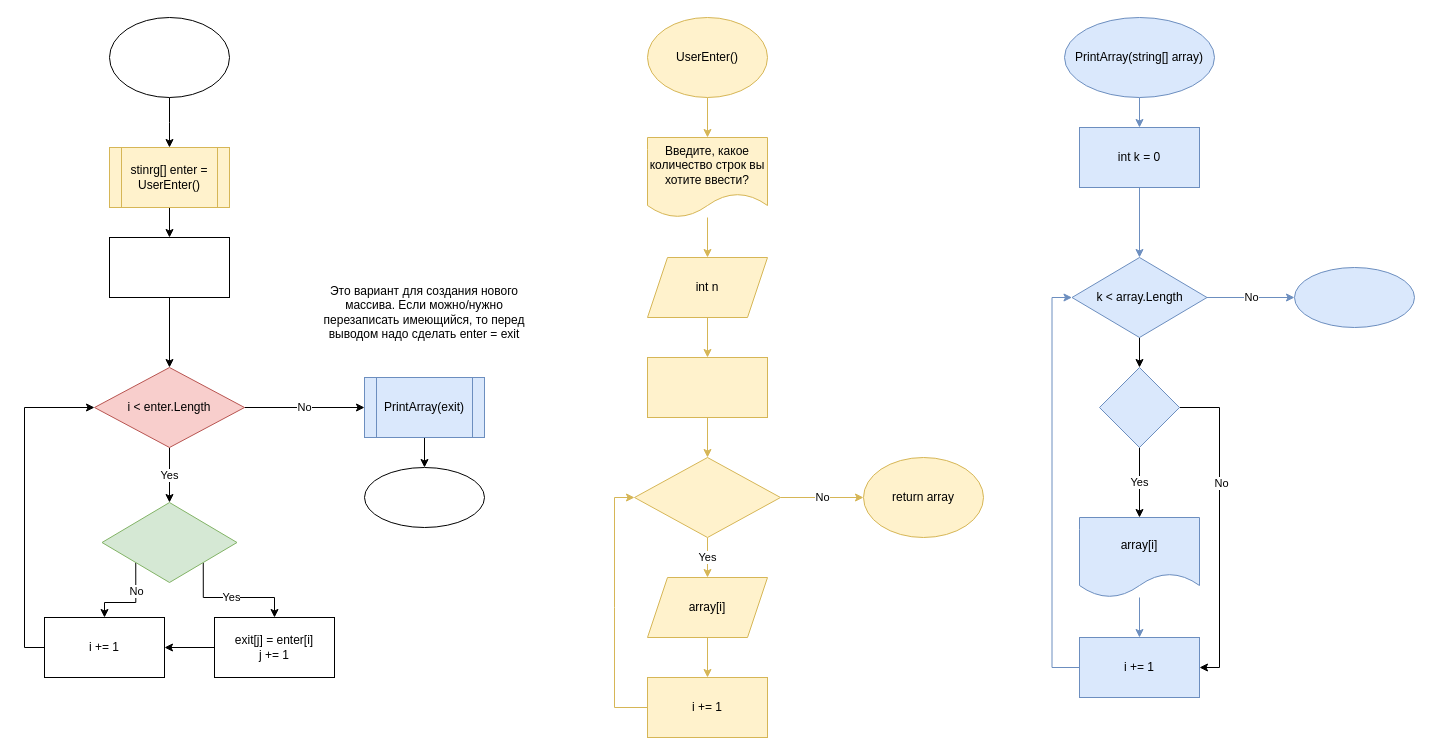
Image size: 1432x755. Some labels were removed from this diagram. The centre of each missing label's shape, as x and y in pixels:
array[i] != null: the point at 1139,407
End: the point at 424,497
enter[i].Length < 4: the point at 169,542
i < array.length - 1: the point at 707,497
int i = 0 int j = 0 string[] exit = new string[enter.Length]: the point at 169,267
return: the point at 1354,297
Start: the point at 169,57
string[] array = new string[n] int i = 0: the point at 707,387
